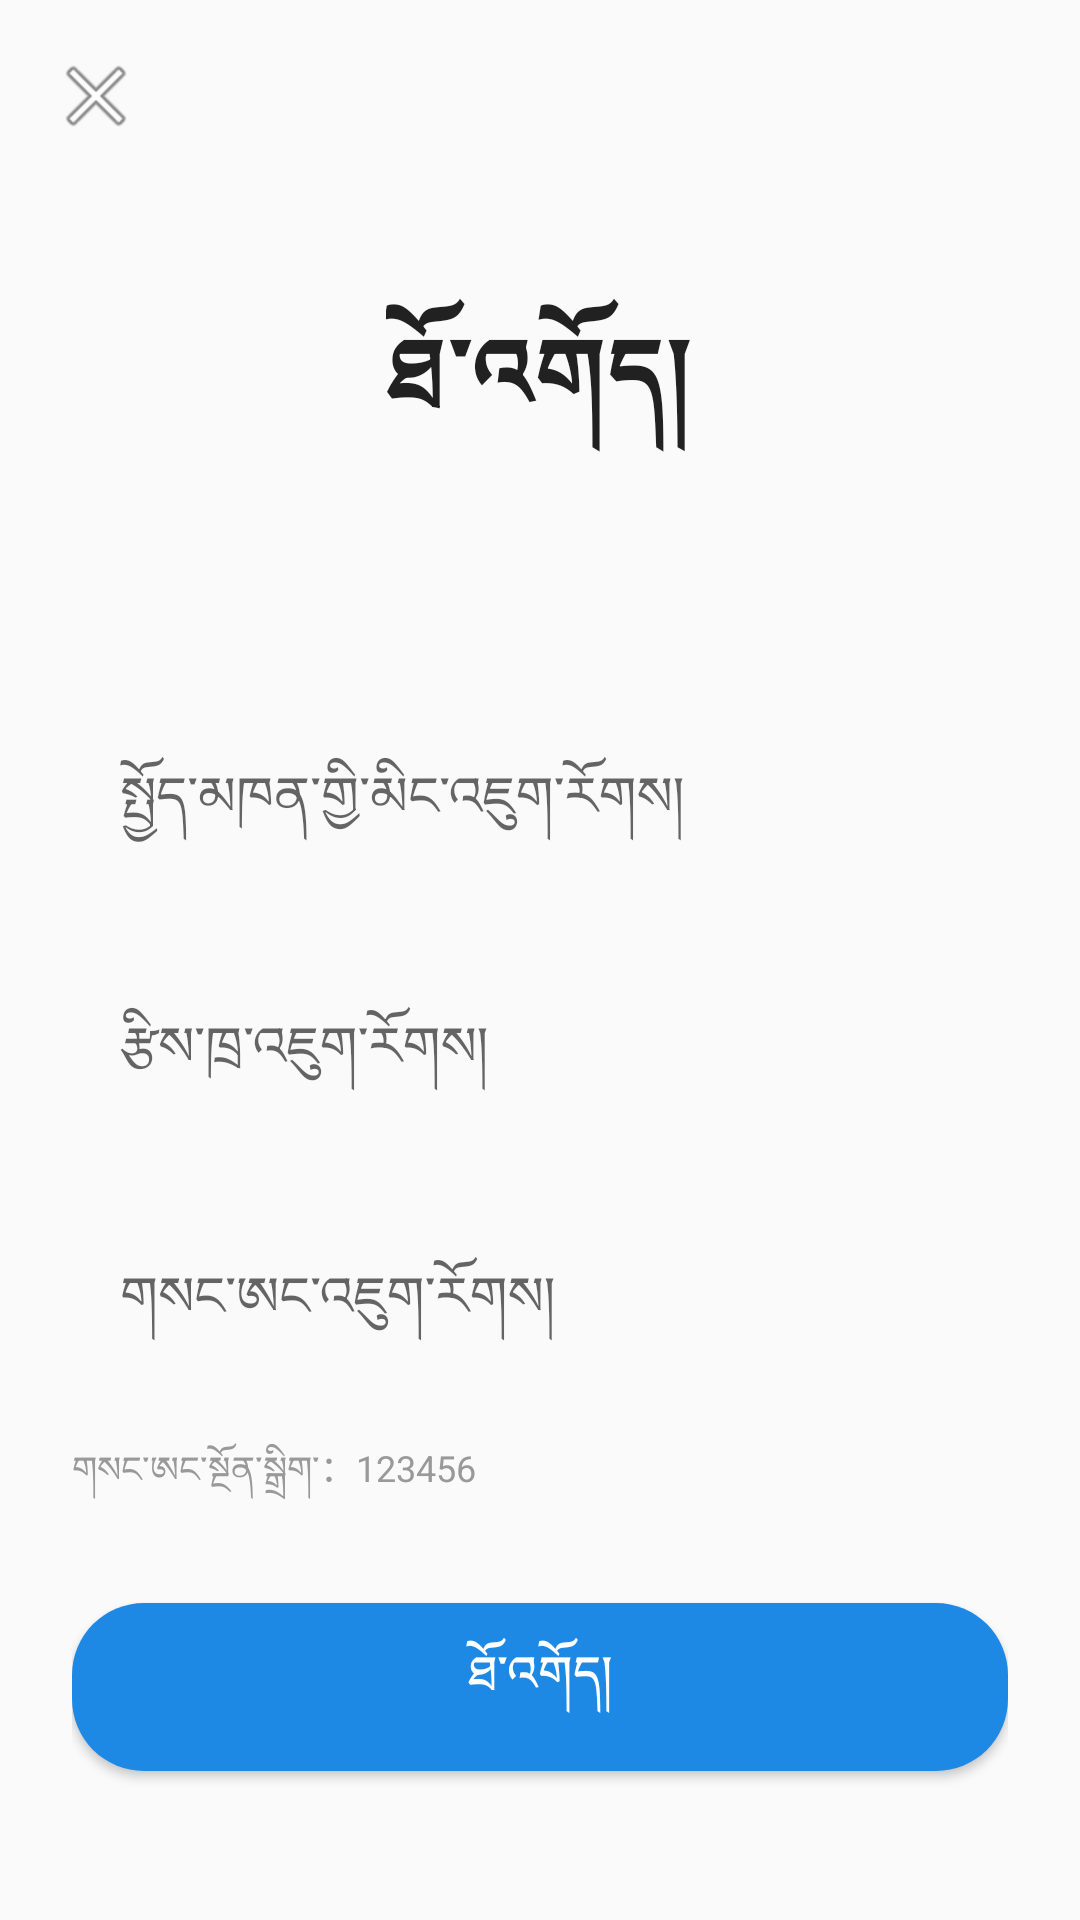

Named icons in this screenshot (1080×1920) and their centers, (x,y):
返回: (96,96)
